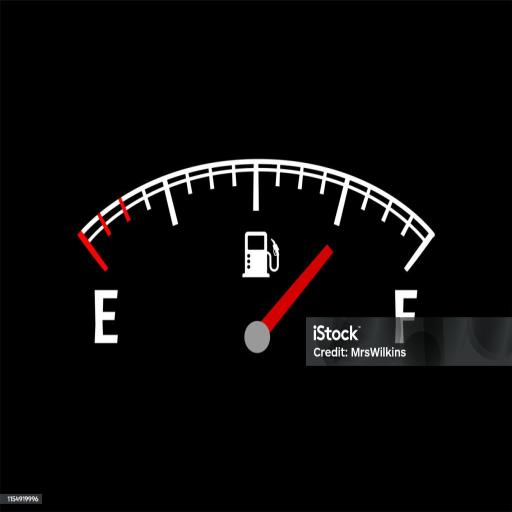empty: (91, 291, 120, 347)
fuel_icon: (237, 228, 282, 279)
full: (390, 288, 418, 346)
guage_area: (74, 153, 439, 366)
needle_center: (241, 316, 274, 360)
needle_tip: (318, 238, 334, 270)
